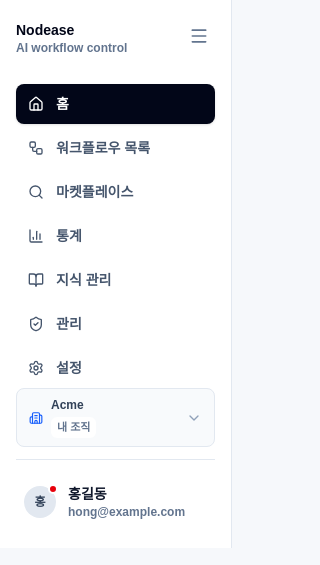
Test: Sidebar organization switcher › organization이 2개 이상이면 dropdown에서 내 조직과 멤버 조직을 구분한다
Click the button with aria-label "조직 전환".
click(116, 418)  # box [16,388,215,447]
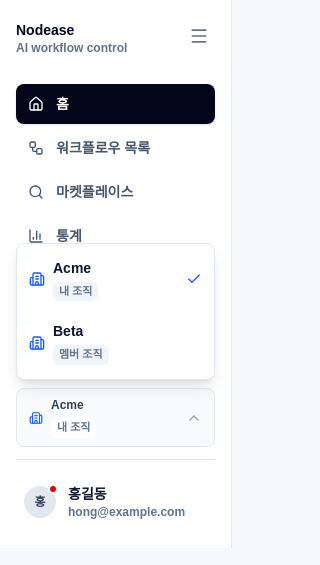
Check: the 2nd text "내 조직" is shown, box [51,417,96,438]
Check: the menu item with aria-label "Beta 조직 선택" is shown, box [17,311,214,375]
Check: the text "멤버 조직" is shown, box [53,345,108,365]
